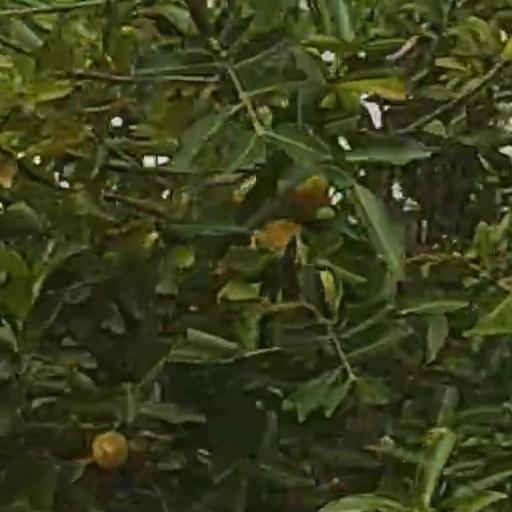acerola_vermelha: (93, 433, 128, 465)
